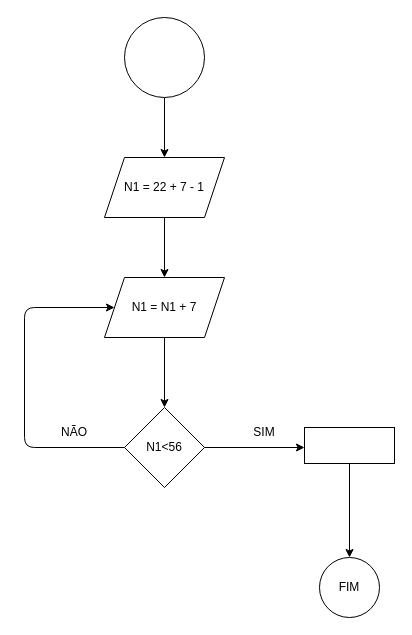
Some shapes in this 412 by 635 pixel diagram are drawn without their labels. The centre of each missing label's shape, as x and y in pixels:
INICIO: the point at 164,57
N1: the point at 349,445
